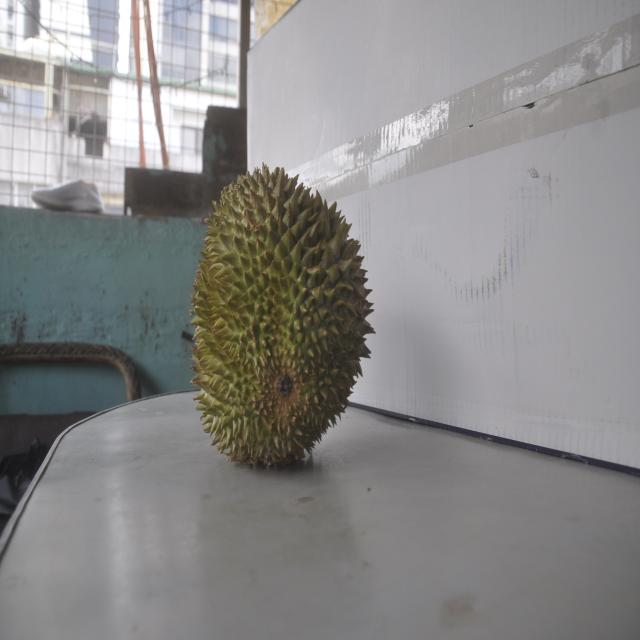mature: (188, 164, 370, 467)
